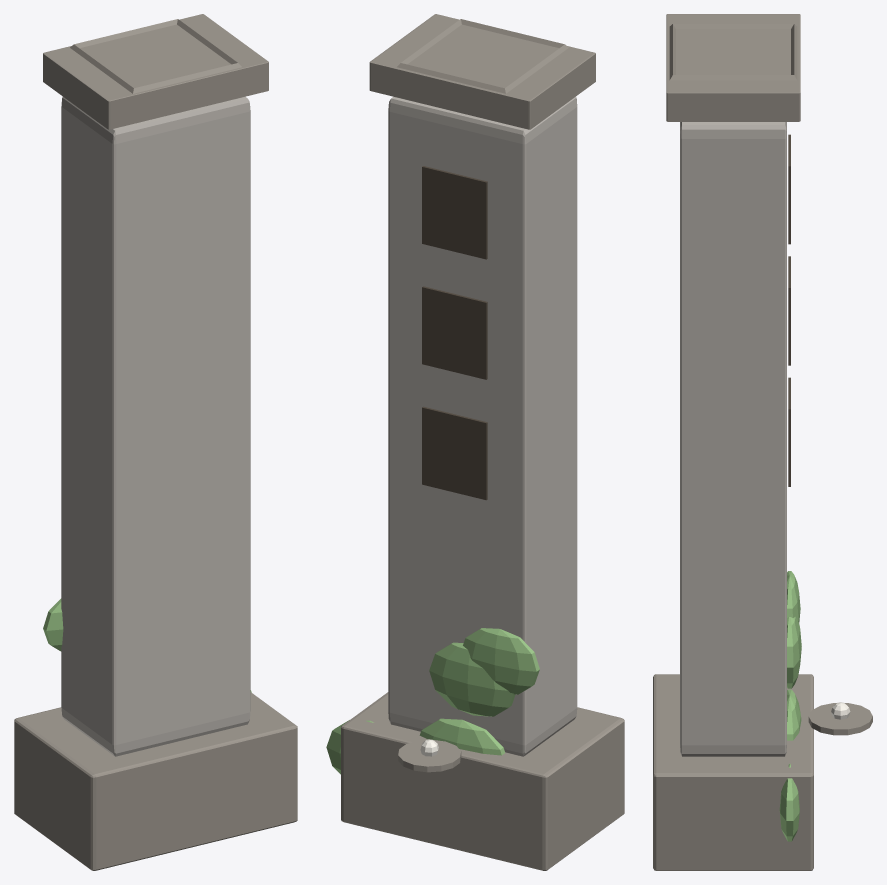
Rendered from milestone_marker.glb.
The picture shows the model from 3 angles, left to right: view 1: azimuth 30°, elevation 25°; view 2: azimuth 150°, elevation 25°; view 3: azimuth 270°, elevation 25°; orthographic projection.
Visible parts, largest first — view 1: milestone_marker; view 2: milestone_marker; view 3: milestone_marker.
Part boxes in pixels (x1,y1,x2,y2): milestone_marker: (14, 14, 297, 870); milestone_marker: (326, 14, 624, 870); milestone_marker: (653, 14, 872, 870).
Size of the model in its own units: 0.5005 by 1.59 by 0.41.
